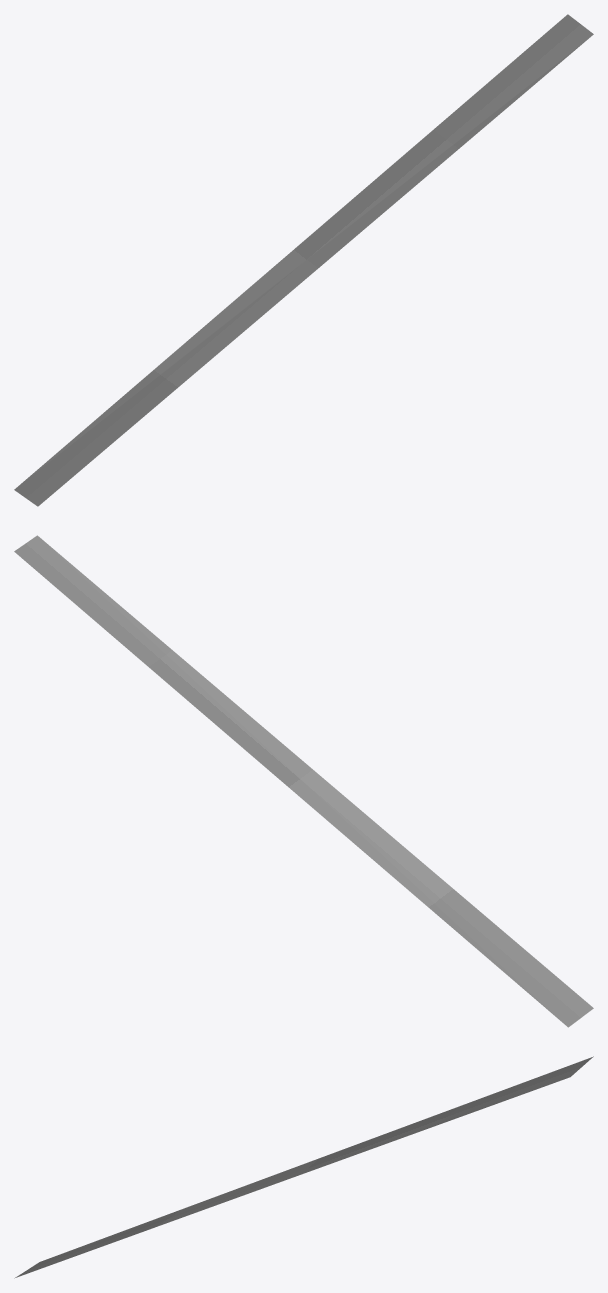
The model's file is zcb005-geode.glb.
3 renders of one model, top to bottom at view 1: azimuth 30°, elevation 25°; view 2: azimuth 150°, elevation 25°; view 3: azimuth 330°, elevation 25°, orthographic.
Parts seen in each view (by area): view 1: Node; view 2: Node; view 3: Node.
Boxes of the visible parts, bbox=[...] form: Node: bbox=[14, 14, 593, 506]; Node: bbox=[14, 535, 593, 1027]; Node: bbox=[14, 1056, 593, 1278].
Bounding box in the file's own units: 2.71 × 1.59 × 0.2094.
Materials: 1 (1 with a texture image).
